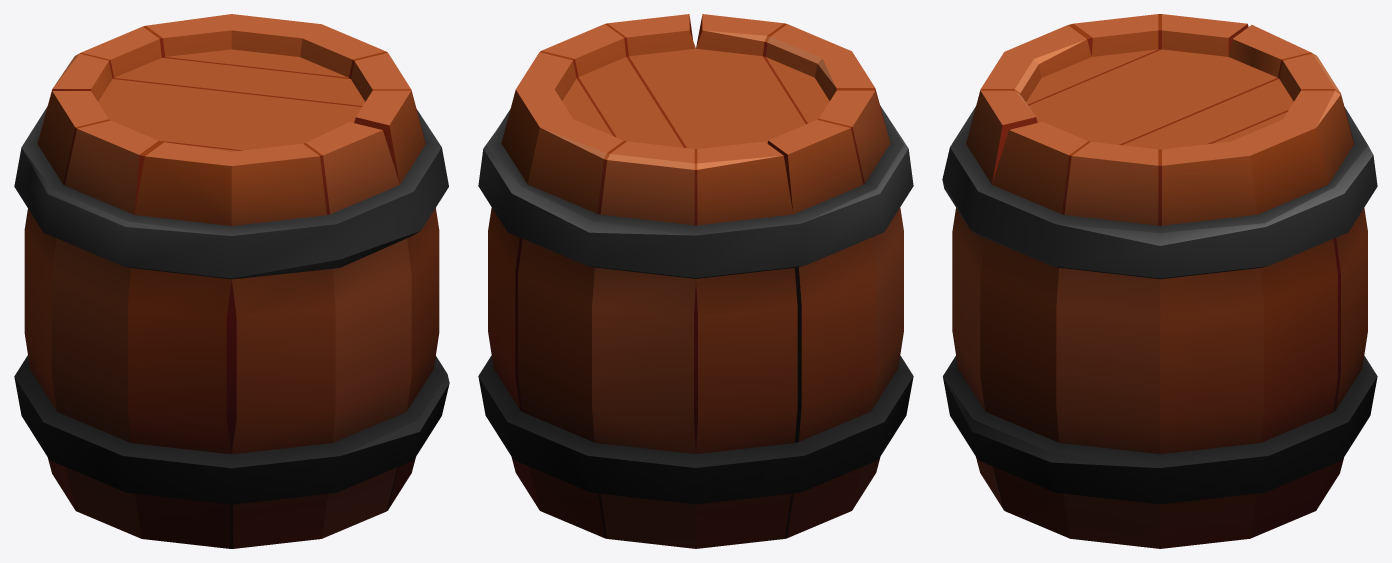
Rendered from barrel.fbx.
3 views of the same model, side by side, from view 1: azimuth 30°, elevation 25°; view 2: azimuth 150°, elevation 25°; view 3: azimuth 270°, elevation 25° (orthographic).
Parts seen in each view (by area): view 1: barrel; view 2: barrel; view 3: barrel.
Boxes of the visible parts, x1,y1,x2,y2 form: barrel: [14, 14, 449, 548]; barrel: [478, 14, 913, 548]; barrel: [942, 14, 1377, 548].
Bounding box in the file's own units: 1.3 × 1.27 × 1.3.
